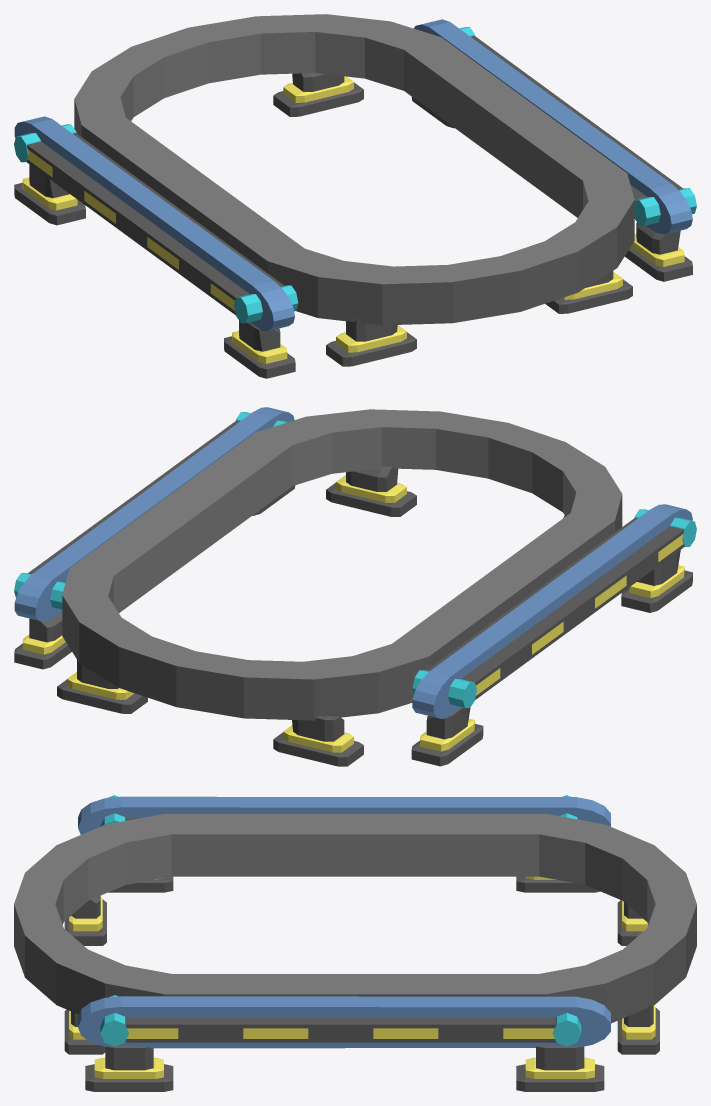
Rendered from ConveyorMaterials.fbx.
3 views of the same model, one above another, from view 1: azimuth 30°, elevation 25°; view 2: azimuth 150°, elevation 25°; view 3: azimuth 270°, elevation 25° (orthographic). The views are drawn at different scales.
Visible parts, largest first — view 1: Conveyor; view 2: Conveyor; view 3: Conveyor.
Part boxes in pixels (x1,y1,x2,y2): Conveyor: (14,14,696,378); Conveyor: (14,407,696,766); Conveyor: (14,795,696,1091).
Bounding box in the file's own units: 546 × 93 × 700.
